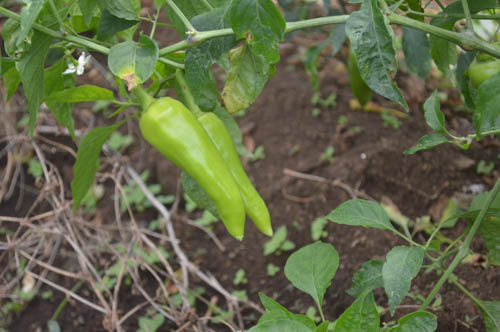ChiliPepper: (142, 98, 247, 240), (193, 113, 273, 235)
